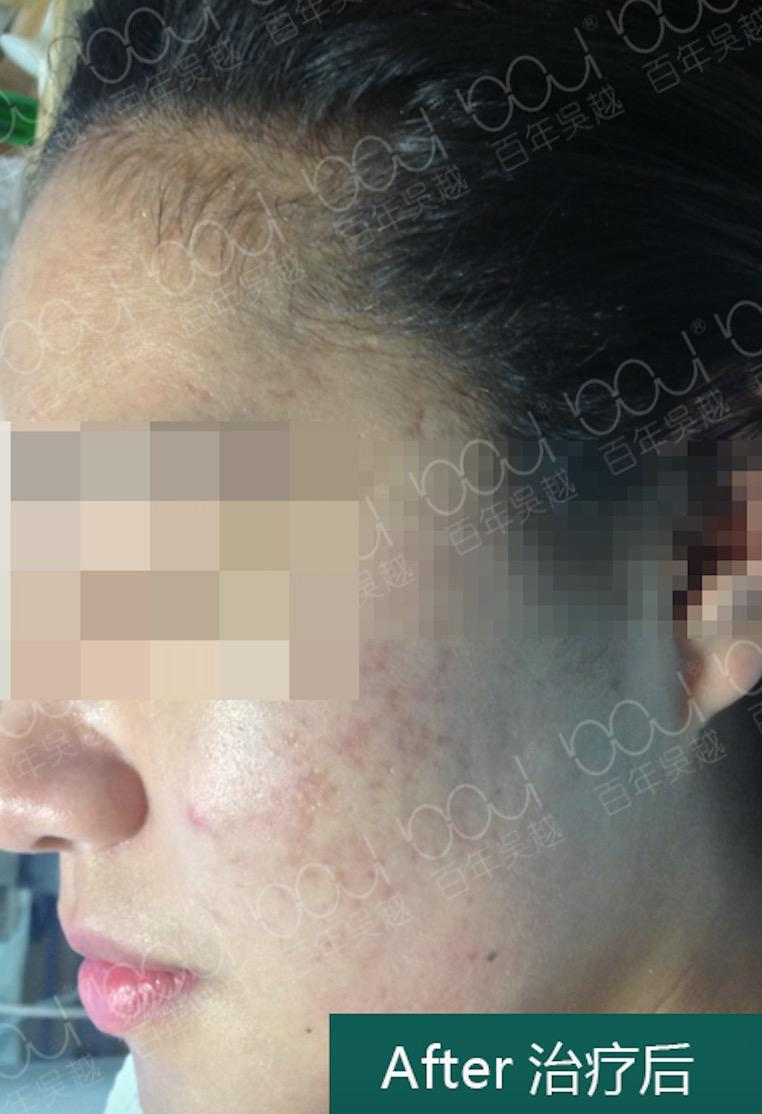fore: (181, 784, 243, 846)
